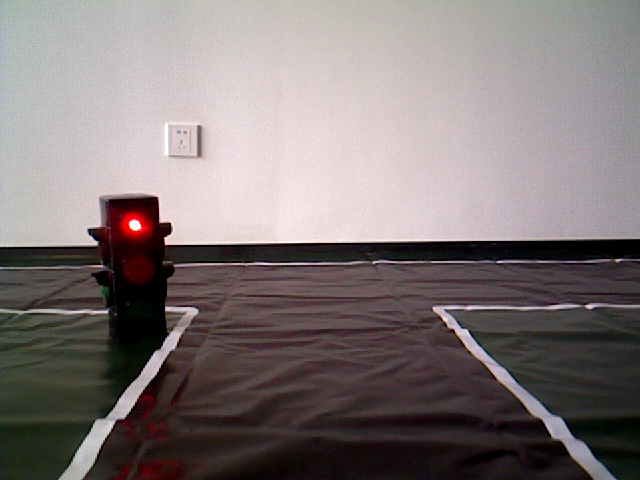red: (93, 202, 163, 329)
